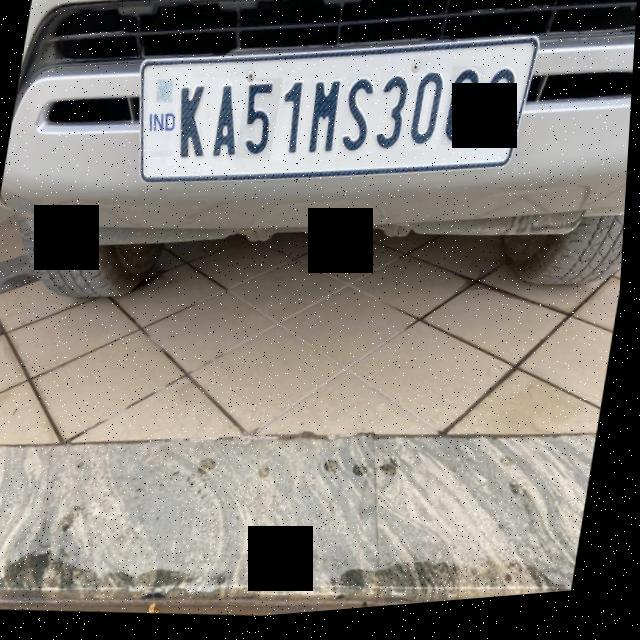0: (476, 65, 526, 155), (441, 72, 486, 157), (407, 78, 450, 161)
1: (271, 80, 313, 170)
3: (368, 74, 419, 172)
5: (236, 79, 284, 166)
A: (203, 78, 250, 178)
K: (167, 77, 218, 172)
M: (299, 78, 348, 176)
S: (337, 77, 380, 171)
